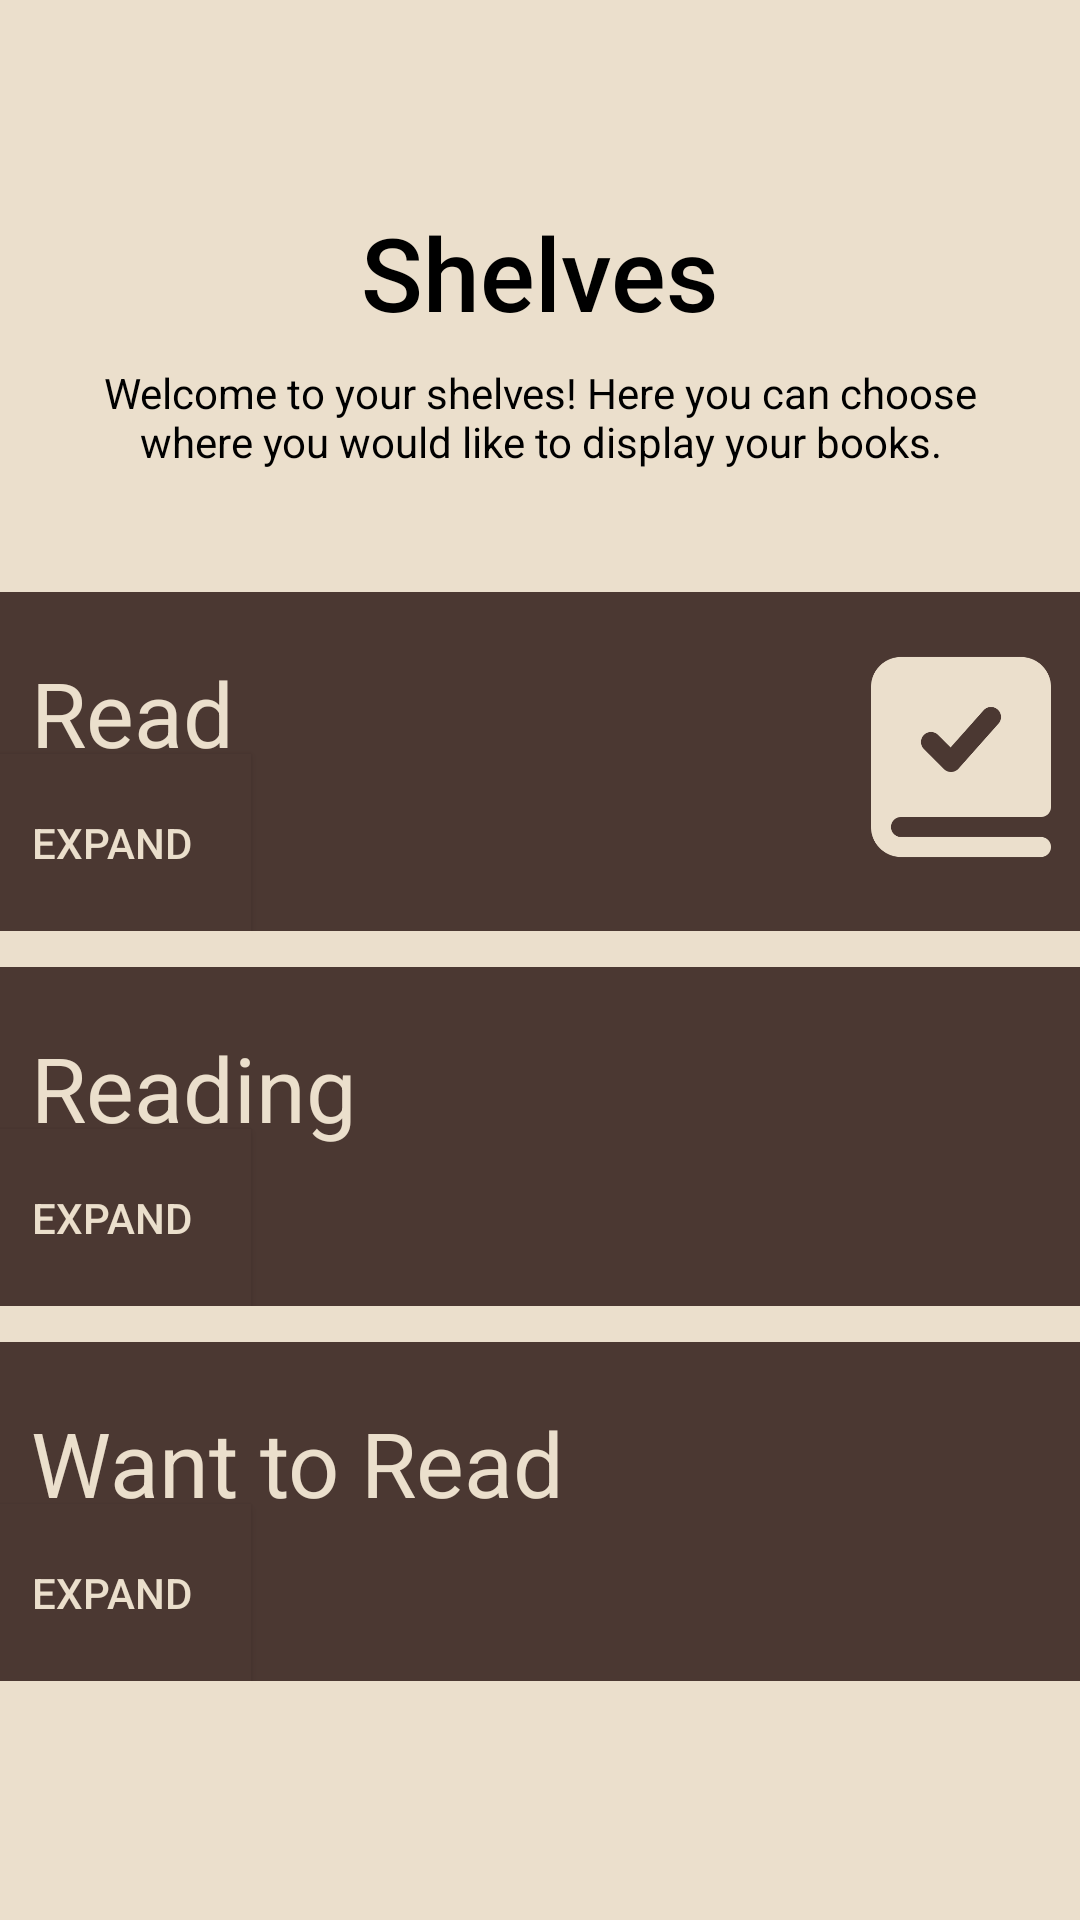

Icon click points for this 1080px×1920px phone screenshot, format point (x, y):
checkbook: point (961, 757)
